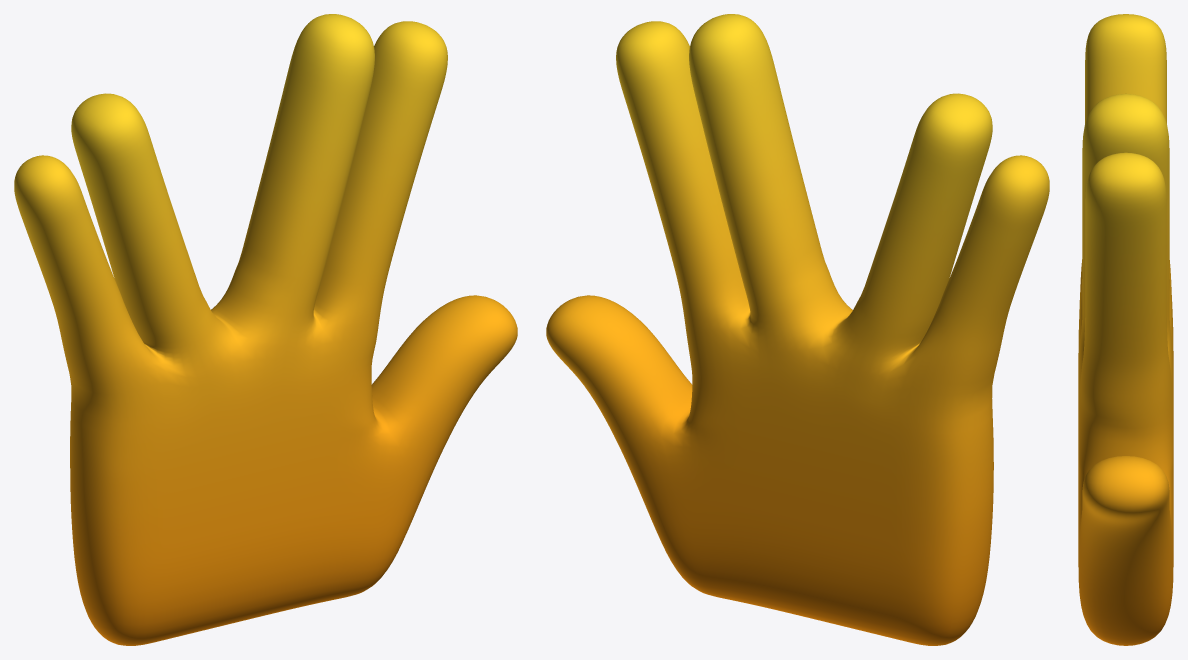
Rendered from vulcan_salute.gltf.
3 views of the same model, side by side, from view 1: azimuth 30°, elevation 25°; view 2: azimuth 150°, elevation 25°; view 3: azimuth 270°, elevation 25° (orthographic). The views are drawn at different scales.
Visible parts, largest first — view 1: Cube.084; view 2: Cube.084; view 3: Cube.084.
Boxes of the visible parts, left/top/right/bottom form: Cube.084: left=14, top=14, right=517, bottom=645; Cube.084: left=546, top=14, right=1049, bottom=645; Cube.084: left=1078, top=14, right=1173, bottom=645.
Bounding box in the file's own units: 1.86 × 2.08 × 0.3301.
1 material, 1 textured.
